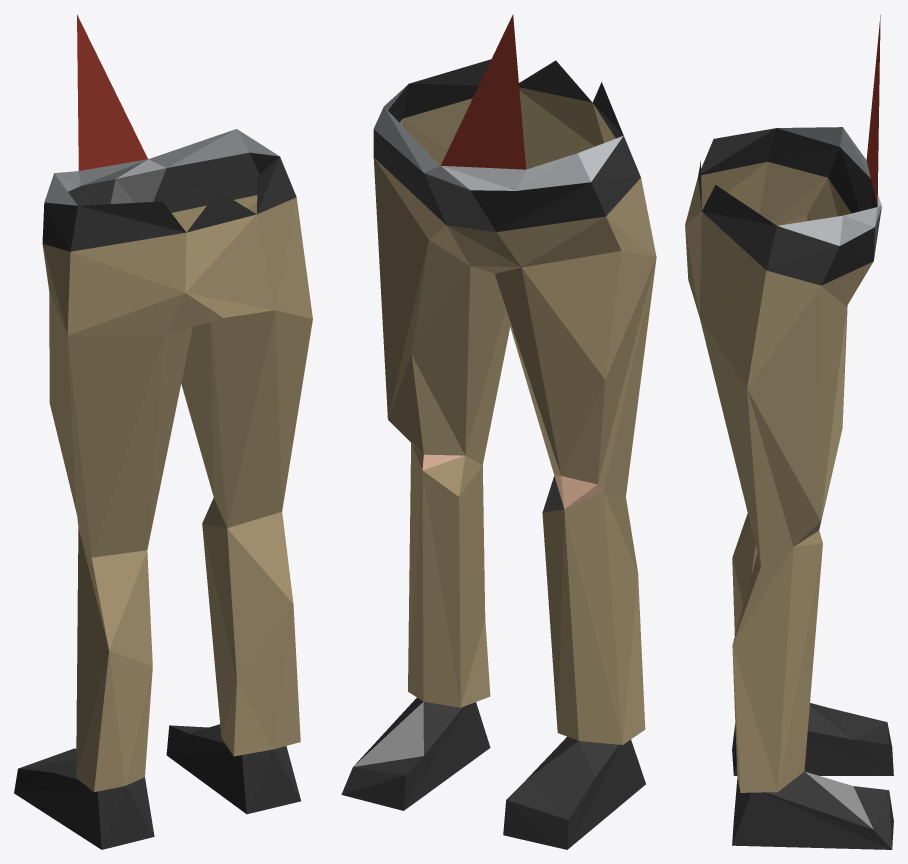
File: Legs.obj
3 renders of one model, left to right at view 1: azimuth 30°, elevation 25°; view 2: azimuth 150°, elevation 25°; view 3: azimuth 270°, elevation 25°, orthographic. The views are drawn at different scales.
Bounding box in the file's own units: 0.3824 × 1.17 × 0.2906.
1 material, 1 textured.
